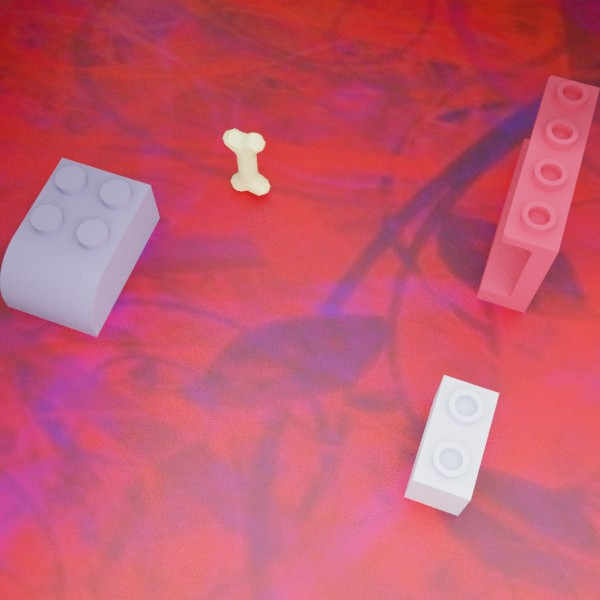lego: (476, 75, 600, 312), (0, 157, 159, 337), (404, 375, 499, 515), (222, 128, 270, 195)
